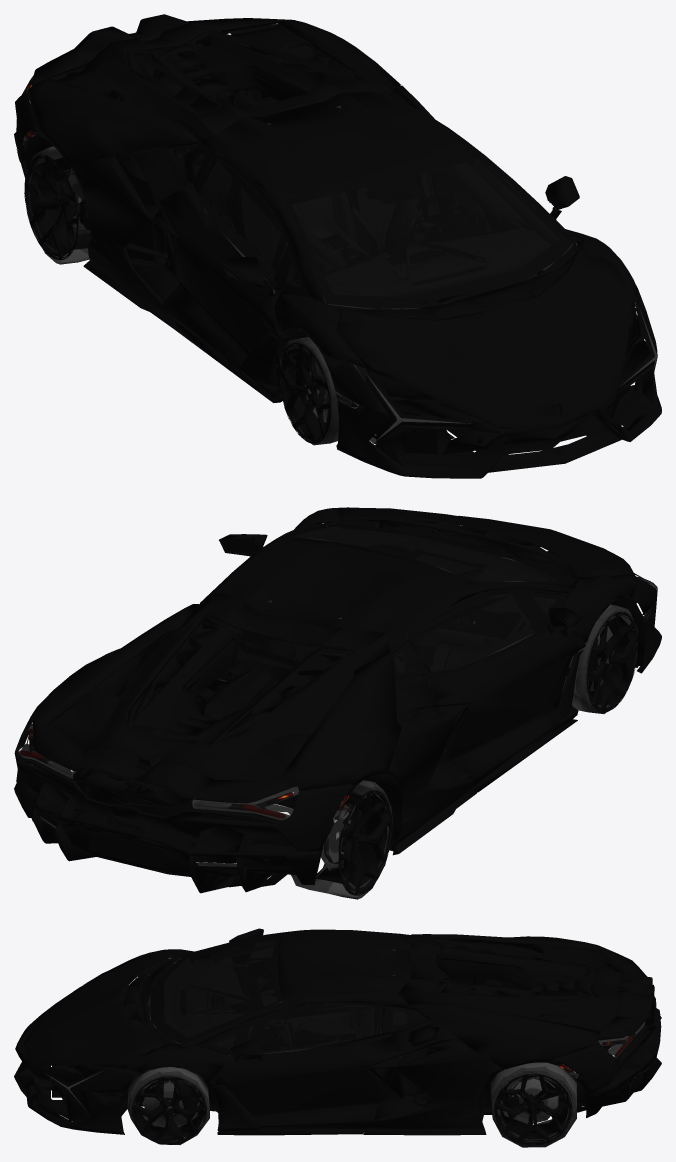
File: car-revuelto-lite.glb
The picture shows the model from 3 angles, top to bottom: view 1: azimuth 30°, elevation 25°; view 2: azimuth 150°, elevation 25°; view 3: azimuth 270°, elevation 25°; orthographic projection. The views are drawn at different scales.
Visible parts, largest first — view 1: Car_541, Car_518, Car_79, Car_0, Car_2, Car_4, Car_190, Car_161, Car_316, Car_357, Car_22, Car_581 (+4 smaller); view 2: Car_541, Car_79, Car_518, Car_2, Car_190, Car_0, Car_4, Car_161, Car_357, Car_792, Car_377, Car_68 (+3 smaller); view 3: Car_541, Car_518, Car_79, Car_0, Car_190, Car_161, Car_4, Car_2, Car_357, Car_84, Car_299, Car_306 (+4 smaller).
Part boxes in pixels (x1,y1,x2,y2): Car_541: (15,14,661,478); Car_518: (22,23,657,443); Car_79: (14,32,653,472); Car_0: (193,105,577,309); Car_2: (16,24,650,466); Car_4: (112,43,654,467); Car_190: (24,155,367,443); Car_161: (25,146,636,445); Car_316: (241,188,477,255); Car_357: (171,45,313,150); Car_22: (237,189,443,270); Car_581: (376,344,635,454); Car_541: (14,507,661,851); Car_79: (14,517,580,893); Car_518: (18,524,657,821); Car_2: (33,517,651,876); Car_190: (291,611,638,895); Car_0: (217,527,556,751); Car_4: (103,521,650,887); Car_161: (30,604,637,899); Car_357: (64,640,239,875); Car_792: (18,610,649,866); Car_377: (88,832,164,868); Car_68: (53,537,524,880); Car_541: (15,929,656,1134); Car_518: (43,932,645,1115); Car_79: (14,928,661,1135); Car_0: (165,940,406,1077); Car_190: (132,1028,572,1145); Car_161: (127,974,576,1147); Car_4: (48,931,644,1121); Car_2: (26,930,654,1119); Car_357: (437,959,647,1025); Car_84: (204,930,427,1058); Car_299: (68,1065,575,1123); Car_306: (375,1032,437,1118).
Size of what is drawn, in the model's own units: 2.26 by 1.15 by 4.95.
Materials: 28 (11 with a texture image).
